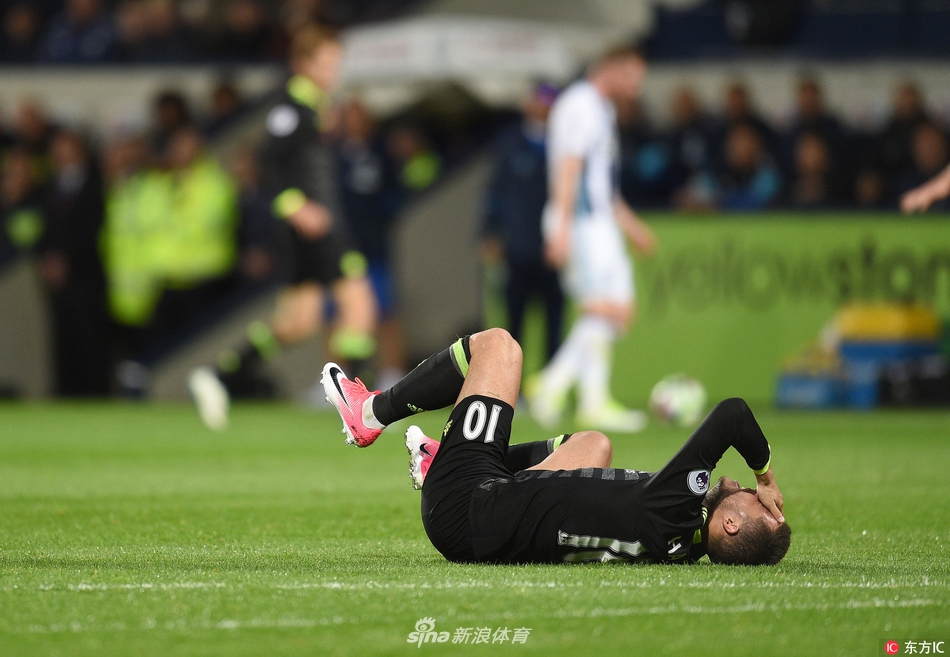10+: (16, 4, 950, 467)
down: (294, 312, 800, 574)
